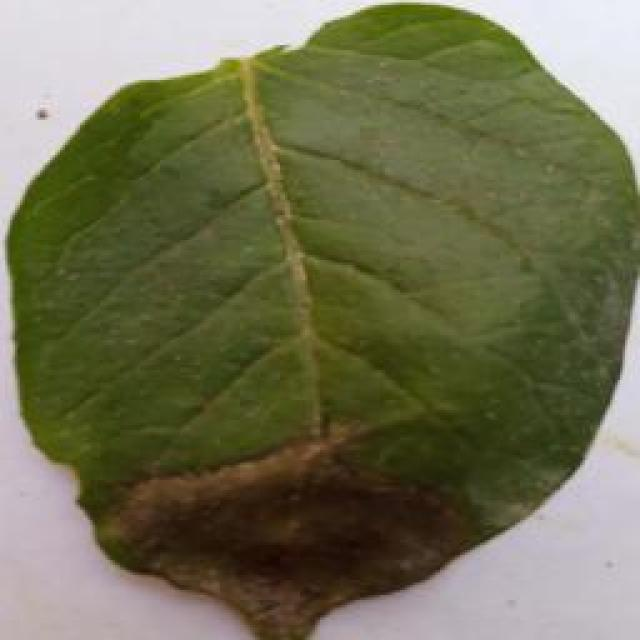Potato_Late_Blight: (1, 13, 633, 638)
